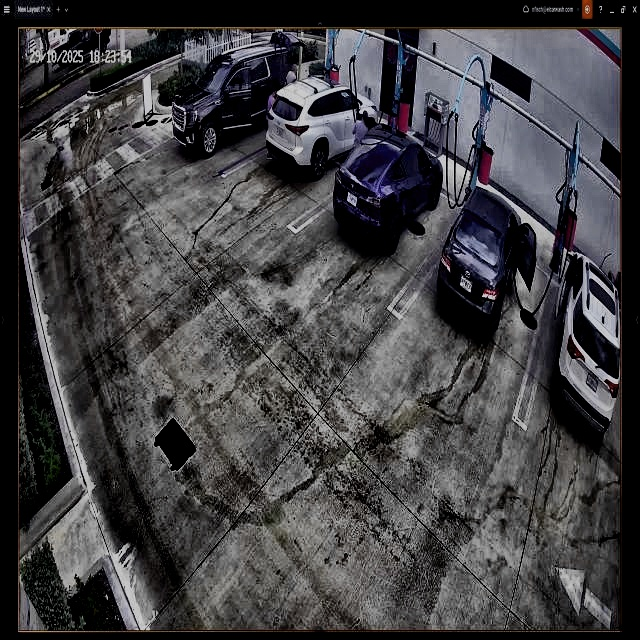Car: (437, 186, 536, 340), (174, 46, 298, 154), (336, 128, 442, 241), (267, 74, 377, 173)
